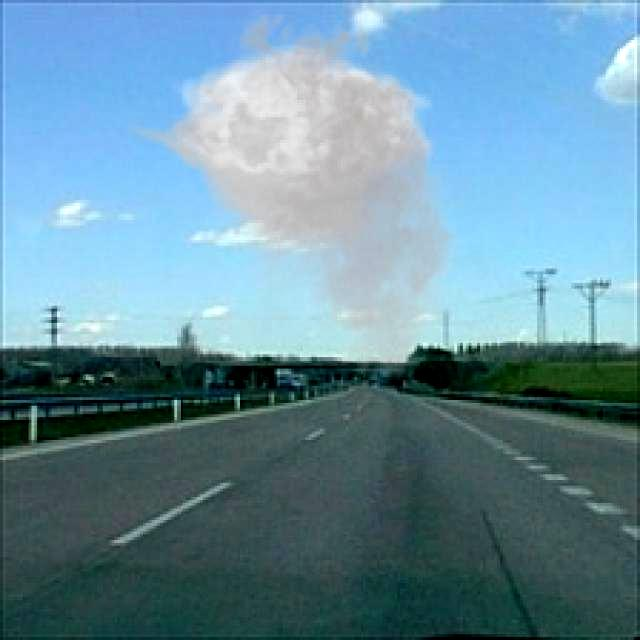Smoke: (181, 74, 478, 292)
